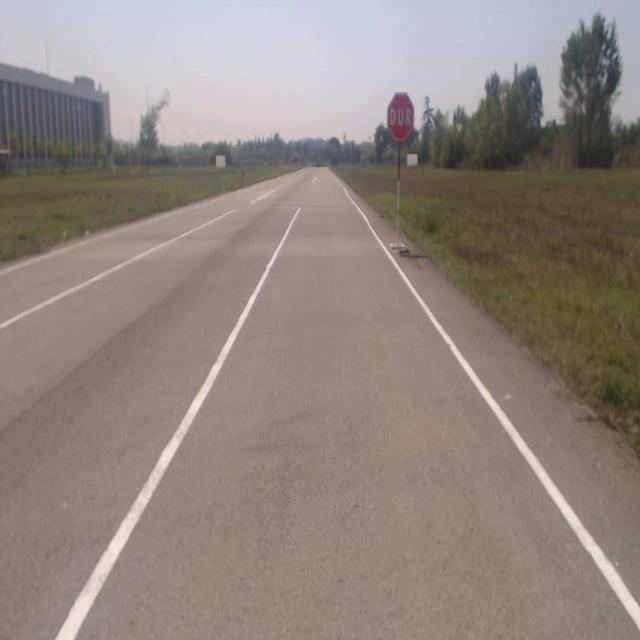dur: (388, 91, 414, 140)
